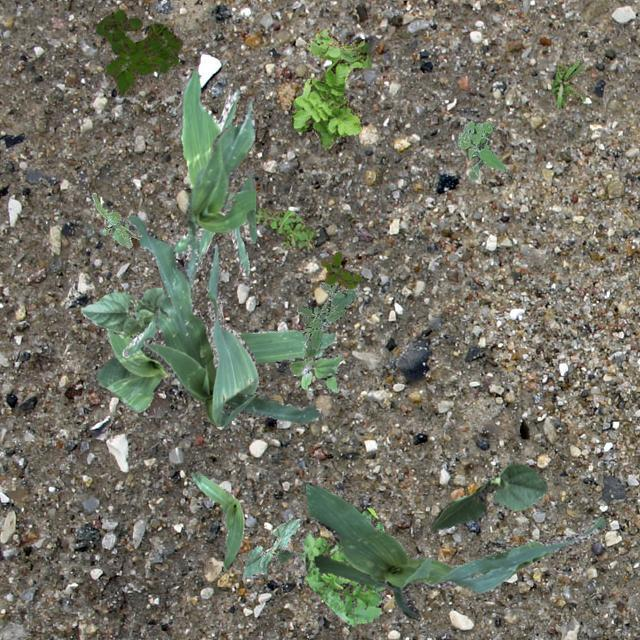crop: (120, 214, 322, 426), (304, 482, 604, 618), (122, 70, 248, 356), (92, 288, 336, 412), (182, 108, 255, 284), (428, 461, 546, 532), (80, 286, 194, 338), (190, 469, 243, 568), (242, 516, 300, 578)
weed: (298, 506, 388, 624), (290, 28, 370, 148), (95, 8, 182, 96), (296, 280, 356, 348), (456, 118, 504, 180), (288, 338, 342, 392), (254, 205, 316, 249), (90, 192, 140, 246), (550, 59, 584, 108), (320, 250, 360, 288)
